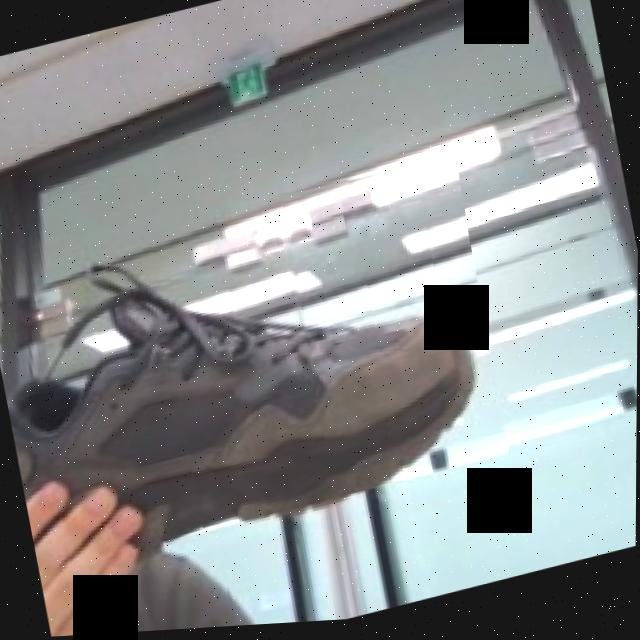shoe: (0, 150, 513, 575)
